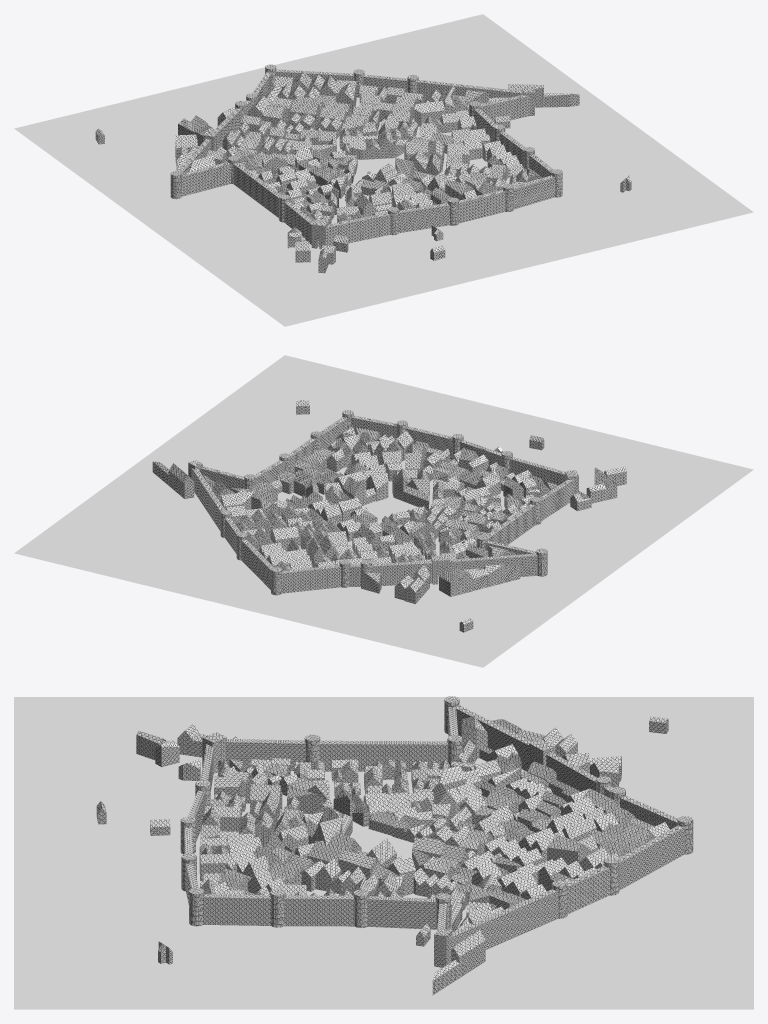
Rendered from GeneratedTown.fbx.
3 views of the same model, one above another, from view 1: azimuth 30°, elevation 25°; view 2: azimuth 150°, elevation 25°; view 3: azimuth 270°, elevation 25° (orthographic). The views are drawn at different scales.
Parts seen in each view (by area): view 1: Plane, dawnthishaw (1); view 2: Plane, dawnthishaw (1); view 3: Plane, dawnthishaw (1).
Boxes of the visible parts, x1,y1,x2,y2 form: Plane: (14,14,753,326); dawnthishaw (1): (95,64,631,273); Plane: (14,355,753,667); dawnthishaw (1): (152,400,626,632); Plane: (14,697,753,1009); dawnthishaw (1): (96,696,693,995).
Size of the model in its own units: 73108 by 3835 by 73108.
